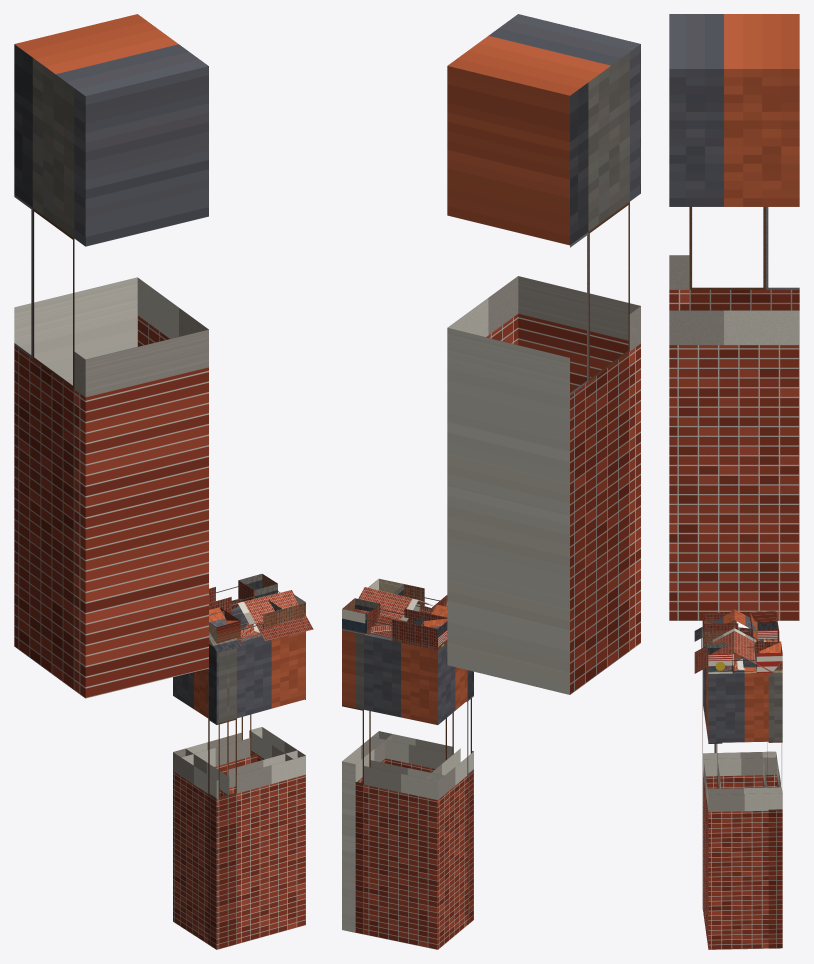
3 renders of one model, left to right at view 1: azimuth 30°, elevation 25°; view 2: azimuth 150°, elevation 25°; view 3: azimuth 270°, elevation 25°, orthographic. The views are drawn at different scales.
Parts seen in each view (by area): view 1: 1107168842__chimney_0_xb, 1107168842__wall_0_xb, 1107168842__wall_3_xb, 1107168842_roof_-1_xb, 1107168842__wall_2_xb, 1107168842__cornice_0, 1107168842__wall_1_xb, 1107168842__cornice_2; view 2: 1107168842__chimney_0_xb, 1107168842__wall_2_xb, 1107168842__wall_3_xb, 1107168842__wall_1_xb, 1107168842__wall_0_xb, 1107168842__cornice_2, 1107168842_roof_1_xb, 1107168842__cornice_1; view 3: 1107168842__chimney_0_xb, 1107168842__wall_1_xb, 1107168842__wall_2_xb, 1107168842__wall_3_xb, 1107168842__wall_0_xb, 1107168842__cornice_3, 1107168842__cornice_1, 1107168842__cornice_2, 1107168842_roof_-1_xb, 1107168842_roof_1_xb, 1107168842__cornice_0.
Part boxes in pixels (box(x1,y1,x2,y2)): 1107168842__chimney_0_xb: box(14, 14, 208, 698); 1107168842__wall_0_xb: box(208, 630, 305, 949); 1107168842__wall_3_xb: box(173, 650, 229, 949); 1107168842_roof_-1_xb: box(209, 590, 313, 652); 1107168842__wall_2_xb: box(181, 606, 257, 775); 1107168842__cornice_0: box(209, 594, 305, 646); 1107168842__wall_1_xb: box(249, 727, 305, 761); 1107168842__cornice_2: box(209, 574, 277, 615); 1107168842__chimney_0_xb: box(447, 14, 640, 694); 1107168842__wall_2_xb: box(342, 633, 444, 949); 1107168842__wall_3_xb: box(425, 642, 473, 949); 1107168842__wall_1_xb: box(342, 630, 392, 932); 1107168842__wall_0_xb: box(372, 620, 473, 924); 1107168842__cornice_2: box(342, 598, 447, 650); 1107168842_roof_1_xb: box(354, 587, 447, 646); 1107168842__cornice_1: box(342, 578, 403, 635); 1107168842__chimney_0_xb: box(669, 14, 799, 620); 1107168842__wall_1_xb: box(707, 667, 782, 949); 1107168842__wall_2_xb: box(762, 639, 782, 948); 1107168842__wall_3_xb: box(702, 635, 776, 914); 1107168842__wall_0_xb: box(703, 641, 722, 947); 1107168842__cornice_3: box(702, 611, 777, 643); 1107168842__cornice_1: box(707, 641, 782, 673); 1107168842__cornice_2: box(750, 611, 782, 673); 1107168842_roof_-1_xb: box(694, 609, 734, 673); 1107168842_roof_1_xb: box(734, 609, 774, 673); 1107168842__cornice_0: box(703, 612, 734, 673).
Size of the model in its own units: 0.2943 by 1.05 by 0.15.
Materials: 1 (1 with a texture image).
